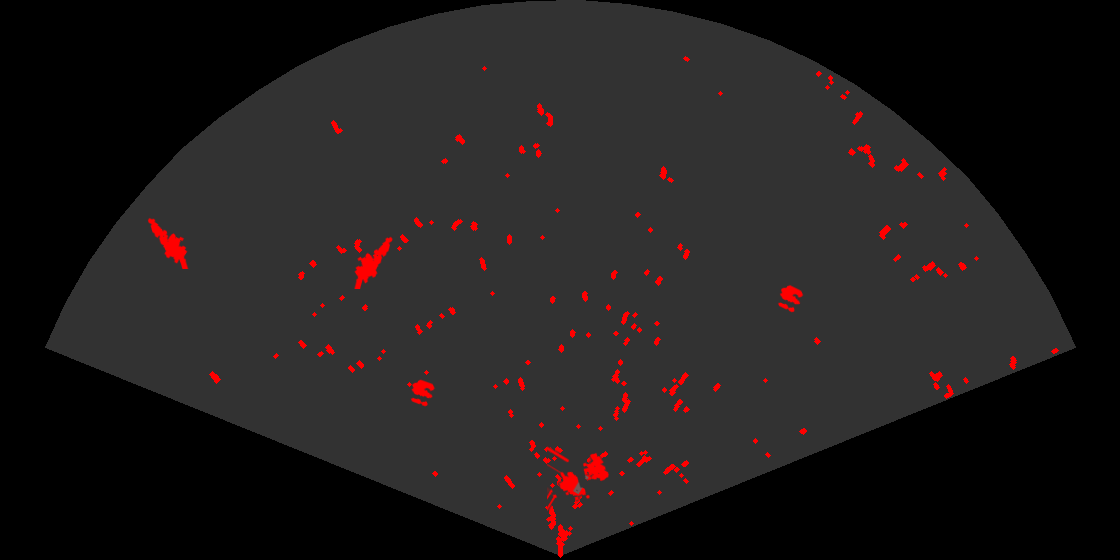ball: (776, 283, 805, 314), (409, 378, 437, 408)
cage: (547, 445, 611, 513)
frogman: (146, 216, 190, 269), (353, 235, 394, 289)
